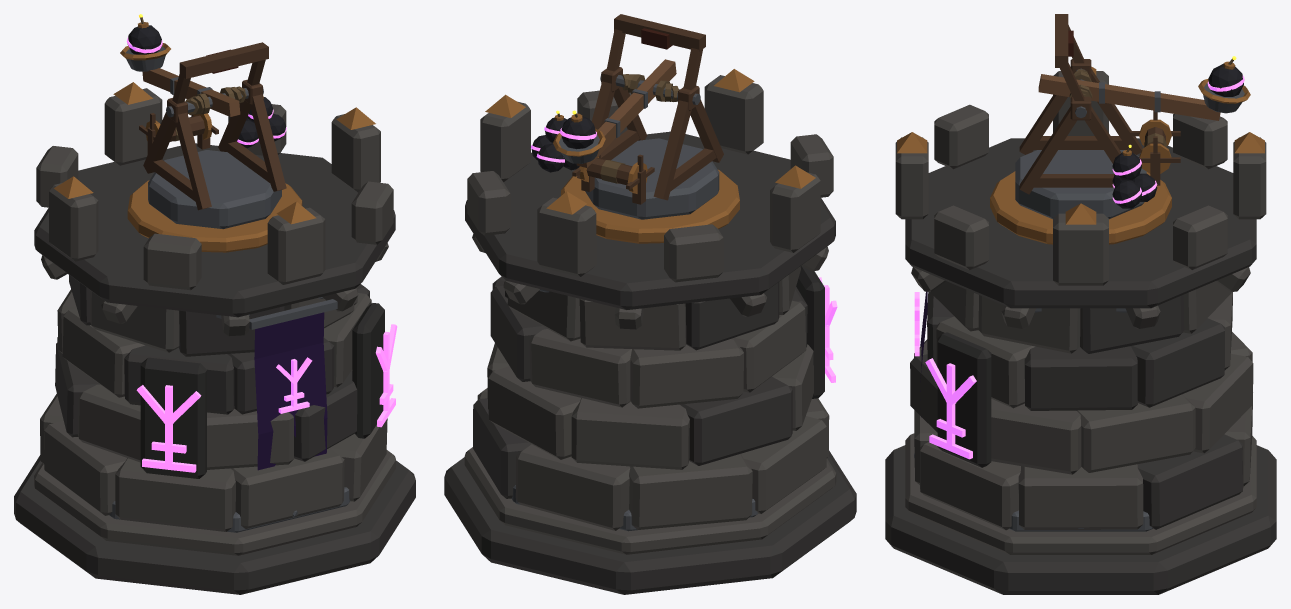
The model's file is bomb_tower_lvl2.glb.
3 views of the same model, side by side, from view 1: azimuth 30°, elevation 25°; view 2: azimuth 150°, elevation 25°; view 3: azimuth 270°, elevation 25° (orthographic). The views are drawn at different scales.
Visible parts, largest first — view 1: Platform, Plinth, Plinth_Step, Banner, Block_0_5, Turret_Base, Block_0_6, RuneStone_1, Block_0_4, Turret_Ring, Block_1_5, Block_1_4 (+34 smaller); view 2: Platform, Plinth, Plinth_Step, Block_0_3, Block_1_2, Block_0_2, Block_2_3, Block_1_3, Block_2_2, Turret_Base, Block_1_1, Block_0_4 (+29 smaller); view 3: Platform, Plinth, Plinth_Step, Block_0_0, Block_2_0, Block_1_0, Block_0_1, Block_0_7, Block_1_7, Block_2_1, RuneStone_0, Turret_Base (+38 smaller).
Boxes of the visible parts, box(x1,y1,x2,y2) form: Platform: box(34, 143, 395, 317); Plinth: box(14, 455, 415, 594); Plinth_Step: box(34, 450, 395, 555); Banner: box(254, 312, 327, 470); Block_0_5: box(115, 458, 235, 531); Turret_Base: box(148, 150, 281, 229); Block_0_6: box(230, 448, 344, 528); RuneStone_1: box(140, 357, 206, 478); Block_0_4: box(44, 421, 126, 515); Turret_Ring: box(127, 180, 302, 252); Block_1_5: box(207, 408, 293, 469); Block_1_4: box(78, 384, 140, 462); Platform: box(465, 131, 835, 309); Plinth: box(444, 450, 856, 594); Plinth_Step: box(464, 447, 836, 554); Block_0_3: box(629, 453, 752, 529); Block_1_2: box(571, 398, 689, 469); Block_0_2: box(515, 444, 630, 530); Block_2_3: box(630, 339, 743, 408); Block_1_3: box(680, 376, 792, 465); Block_2_2: box(529, 329, 631, 407); Turret_Base: box(585, 138, 719, 219); Block_1_1: box(488, 366, 580, 459); Block_0_4: box(741, 416, 826, 513); Platform: box(905, 138, 1256, 308); Plinth: box(885, 445, 1276, 594); Plinth_Step: box(905, 433, 1256, 554); Block_0_0: box(1018, 464, 1143, 529); Block_2_0: box(1024, 346, 1137, 410); Block_1_0: box(1076, 394, 1195, 472); Block_0_1: box(1137, 434, 1243, 529); Block_0_7: box(920, 442, 1020, 530); Block_1_7: box(991, 399, 1081, 474); Block_2_1: box(1130, 318, 1224, 407); RuneStone_0: box(937, 332, 991, 467); Turret_Base: box(1015, 150, 1146, 219).
Size of the model in its own units: 2.37 by 3.21 by 2.37.
